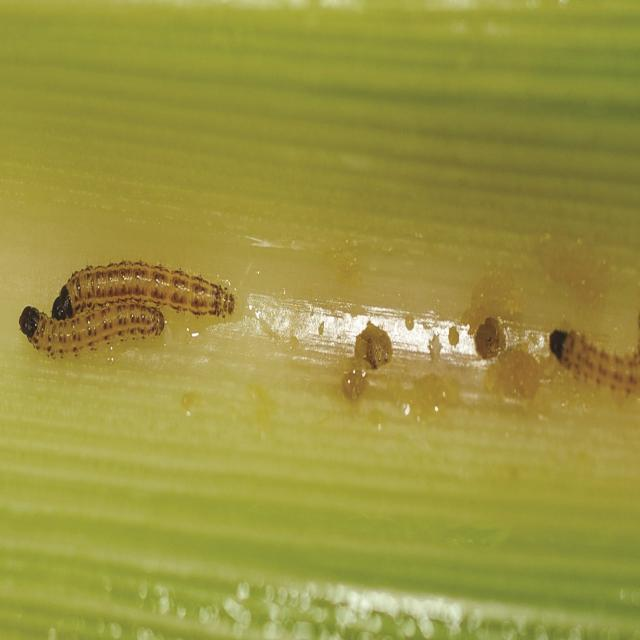cornborer-Larva-: (49, 247, 242, 328), (15, 295, 169, 366)
